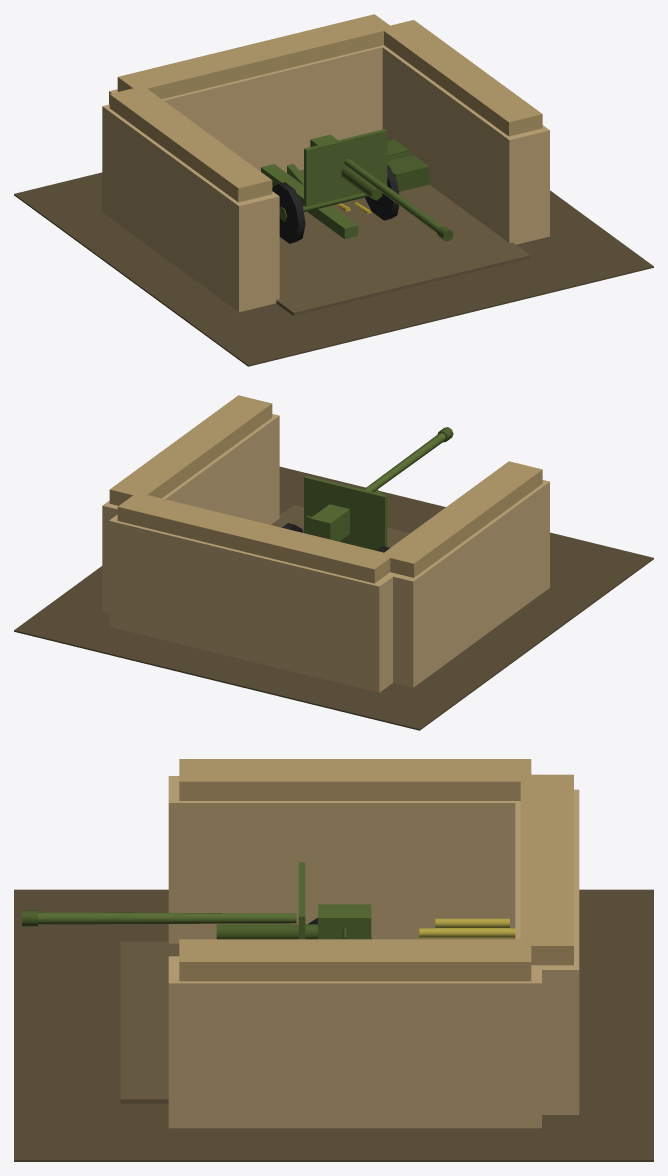
File: artillery-pit.glb
3 views of the same model, one above another, from view 1: azimuth 30°, elevation 25°; view 2: azimuth 150°, elevation 25°; view 3: azimuth 270°, elevation 25° (orthographic). The views are drawn at different scales.
Parts seen in each view (by area): view 1: Mesh_GroundOuter, Mesh_LeftWall, Mesh_PitFloor, Mesh_RightWall, Mesh_BackWall, Mesh_BackWallTopRow, Mesh_LeftWallTopRow, Mesh_RightWallTopRow, Mesh_GunShield, Mesh_GunTrail, Mesh_WheelLeft, Mesh_AmmoCrate2 (+3 smaller); view 2: Mesh_BackWall, Mesh_GroundOuter, Mesh_LeftWall, Mesh_BackWallTopRow, Mesh_RightWall, Mesh_LeftWallTopRow, Mesh_RightWallTopRow, Mesh_GunShield, Mesh_Breech, Mesh_Barrel, Mesh_PitFloor; view 3: Mesh_GroundOuter, Mesh_RightWall, Mesh_LeftWall, Mesh_RightWallTopRow, Mesh_LeftWallTopRow, Mesh_BackWallTopRow, Mesh_PitFloor, Mesh_BackWall, Mesh_Barrel, Mesh_Breech, Mesh_RecoilMech, Mesh_GunShield.
Boxes of the visible parts, x1,y1,x2,y2 form: Mesh_GroundOuter: (14, 172, 653, 366); Mesh_LeftWall: (102, 104, 279, 312); Mesh_PitFloor: (272, 169, 530, 315); Mesh_RightWall: (381, 45, 549, 244); Mesh_BackWall: (109, 45, 383, 172); Mesh_BackWallTopRow: (117, 14, 393, 98); Mesh_LeftWallTopRow: (109, 88, 272, 202); Mesh_RightWallTopRow: (381, 20, 542, 136); Mesh_GunShield: (304, 129, 387, 206); Mesh_GunTrail: (261, 164, 358, 239); Mesh_WheelLeft: (272, 182, 305, 243); Mesh_AmmoCrate2: (387, 155, 429, 191); Mesh_BackWall: (109, 514, 396, 692); Mesh_GroundOuter: (14, 466, 653, 730); Mesh_LeftWall: (388, 480, 549, 687); Mesh_BackWallTopRow: (117, 492, 393, 583); Mesh_RightWall: (102, 414, 279, 613); Mesh_LeftWallTopRow: (381, 461, 542, 577); Mesh_RightWallTopRow: (109, 395, 272, 505); Mesh_GunShield: (304, 475, 387, 550); Mesh_Breech: (310, 504, 349, 541); Mesh_Barrel: (364, 433, 446, 491); Mesh_PitFloor: (271, 505, 409, 547); Mesh_GroundOuter: (14, 889, 653, 1161); Mesh_RightWall: (168, 956, 541, 1128); Mesh_LeftWall: (168, 776, 515, 943); Mesh_RightWallTopRow: (179, 939, 531, 981); Mesh_LeftWallTopRow: (179, 759, 531, 800); Mesh_BackWallTopRow: (520, 774, 573, 965); Mesh_PitFloor: (120, 941, 179, 1103); Mesh_BackWall: (515, 789, 579, 1114); Mesh_Barrel: (38, 912, 296, 924); Mesh_Breech: (318, 904, 371, 939); Mesh_RecoilMech: (216, 924, 317, 939); Mesh_GunShield: (298, 862, 305, 939).
Size of the model in its own units: 6 by 1.72 by 6.
